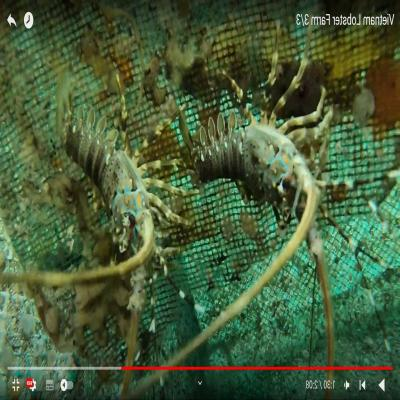lobster: (192, 110, 318, 237), (64, 102, 157, 258)
